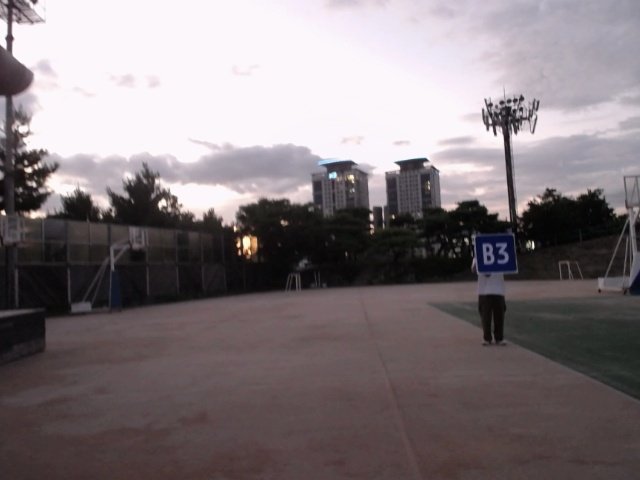delivery_b3: (475, 233, 520, 275)
